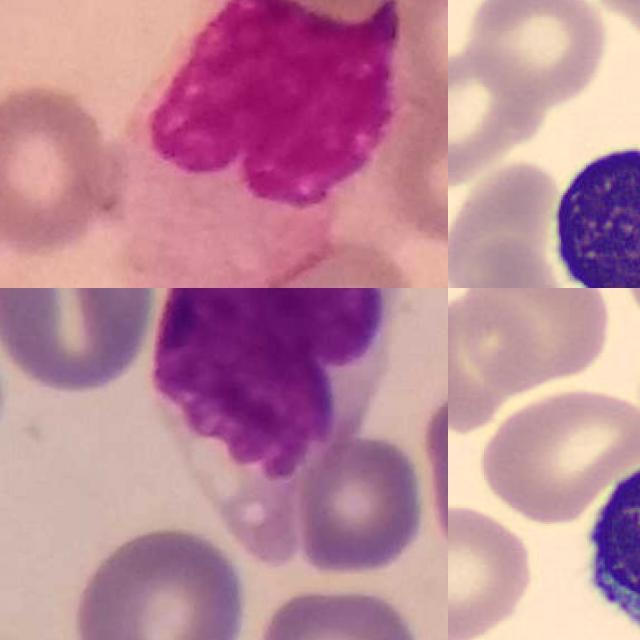Lymphocyte: (541, 128, 640, 288), (567, 444, 640, 640)
Monocyte: (106, 0, 395, 288), (150, 288, 399, 573)
RBC: (473, 383, 640, 524), (455, 288, 615, 390), (459, 0, 609, 106), (448, 47, 550, 188), (448, 499, 539, 640)
